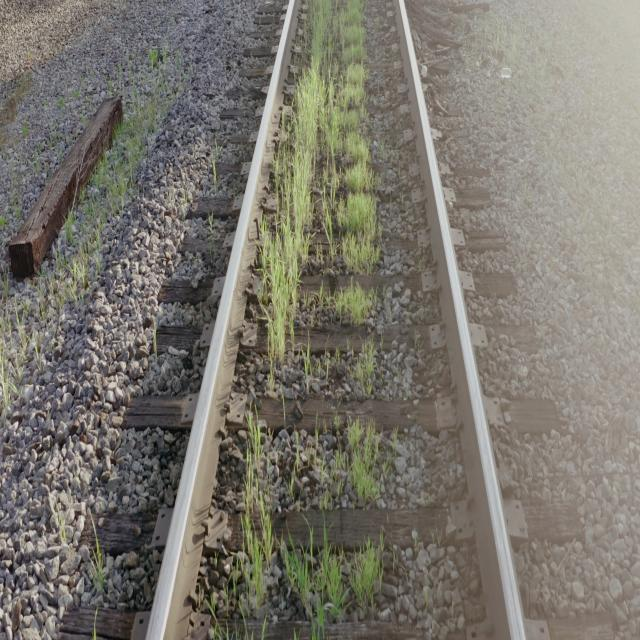Plant: (260, 0, 380, 391), (282, 542, 381, 631), (244, 409, 274, 609), (348, 420, 380, 502), (335, 284, 372, 324), (356, 342, 374, 396)
